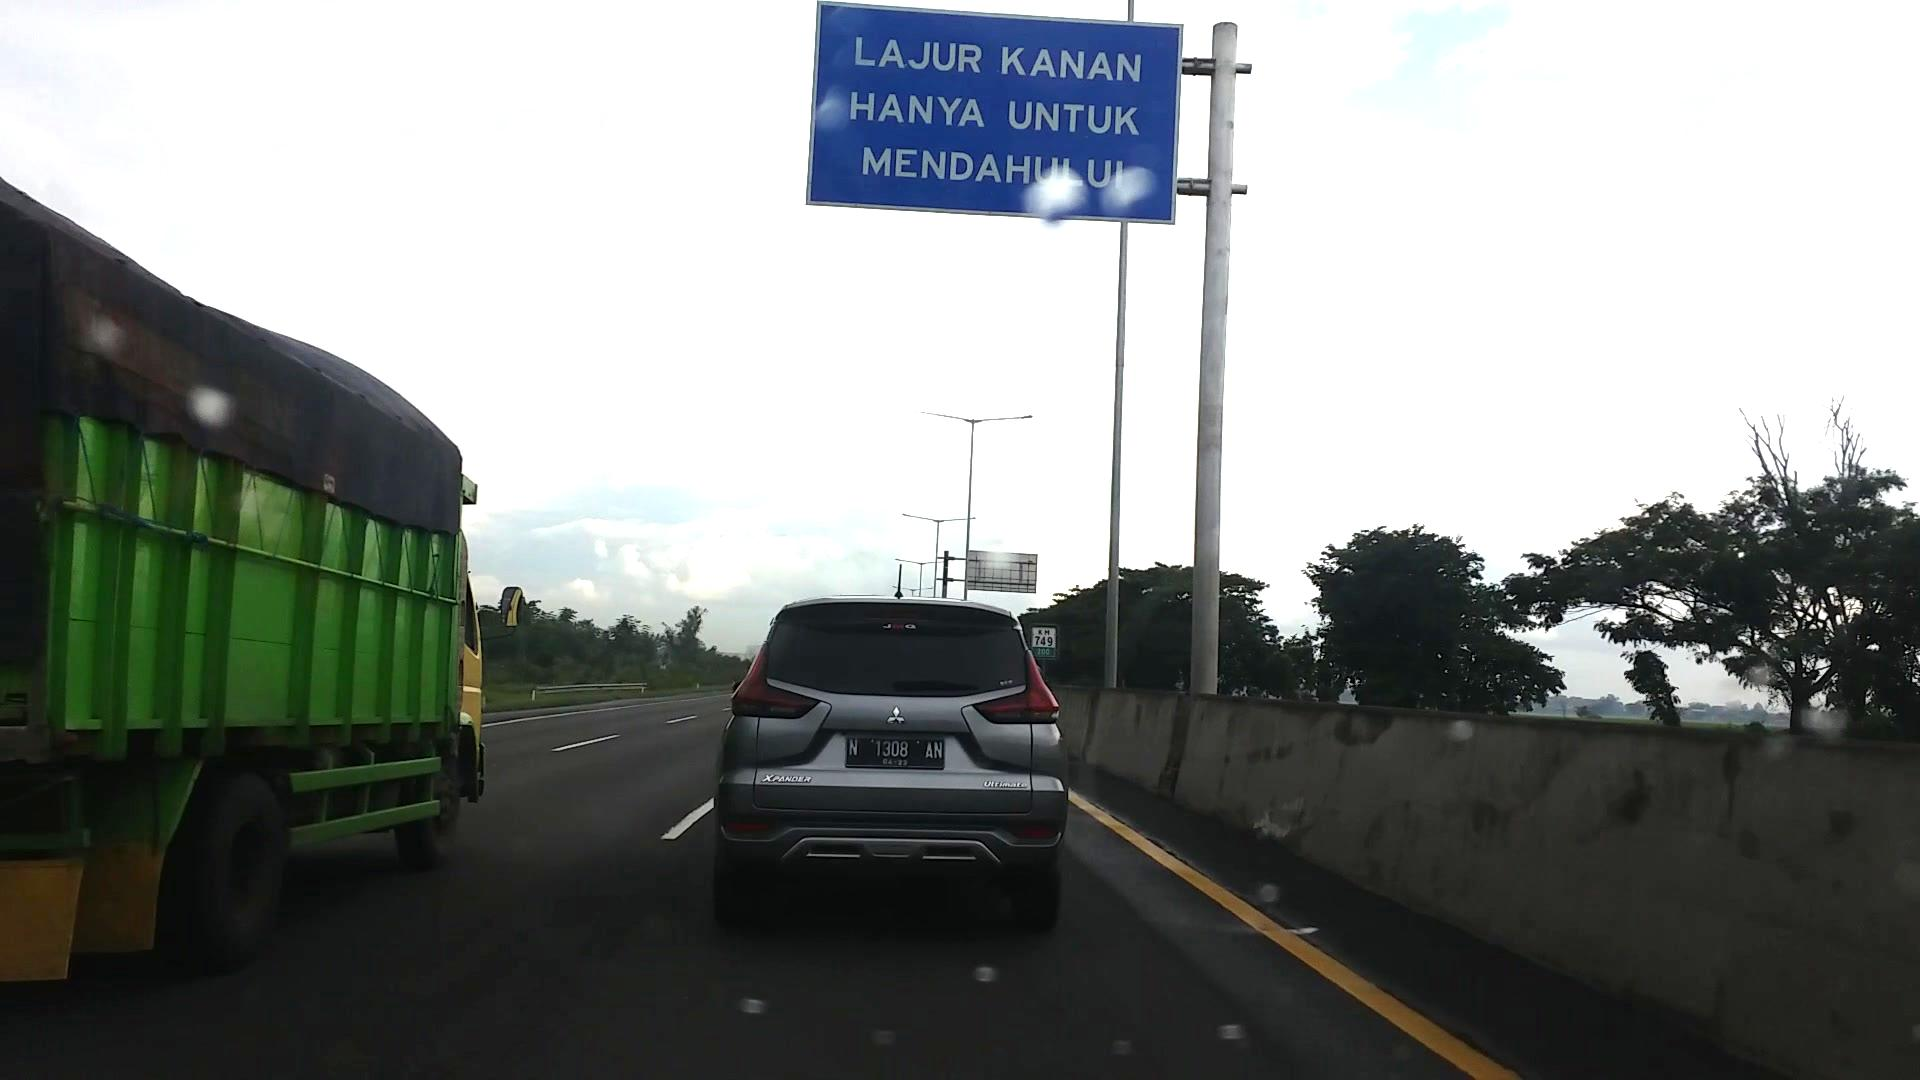plate_positive: (845, 735, 945, 770)
